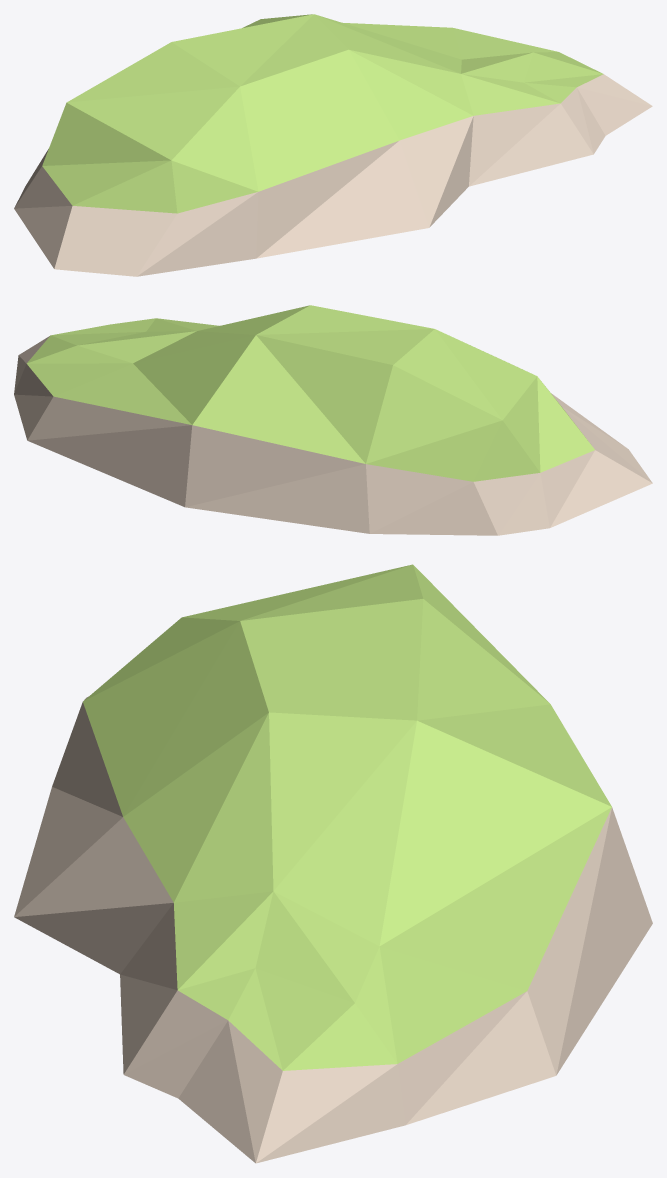
The model's file is Small_hill_03a.fbx.
The picture shows the model from 3 angles, top to bottom: view 1: azimuth 30°, elevation 25°; view 2: azimuth 150°, elevation 25°; view 3: azimuth 270°, elevation 25°; orthographic projection. The views are drawn at different scales.
Visible parts, largest first — view 1: Small_hill_03; view 2: Small_hill_03; view 3: Small_hill_03.
Part boxes in pixels (x1,y1,x2,y2): Small_hill_03: (14,14,652,276); Small_hill_03: (14,305,652,535); Small_hill_03: (14,564,652,1163).
Bounding box in the file's own units: 11.03 × 2.24 × 5.96.
